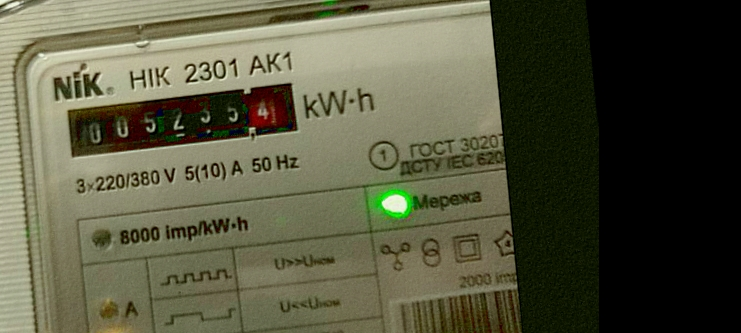0: (86, 119, 103, 146), (114, 114, 131, 140)
2: (168, 105, 186, 133)
3: (195, 99, 214, 126)
4: (252, 94, 273, 124)
5: (222, 96, 241, 125), (141, 109, 158, 135)
screen: (52, 72, 308, 167)
